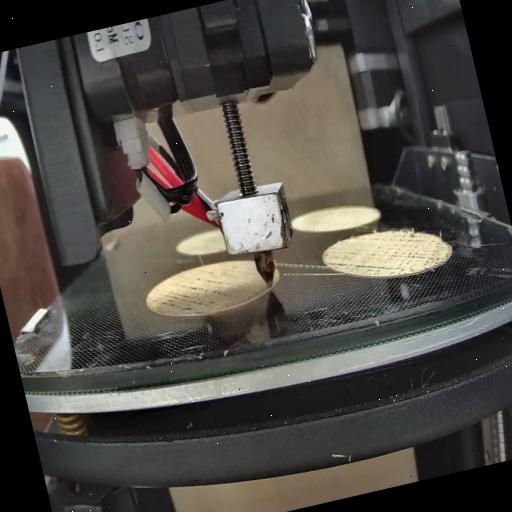under_extrusion: (347, 221, 454, 285), (146, 260, 248, 324), (322, 252, 350, 276)
